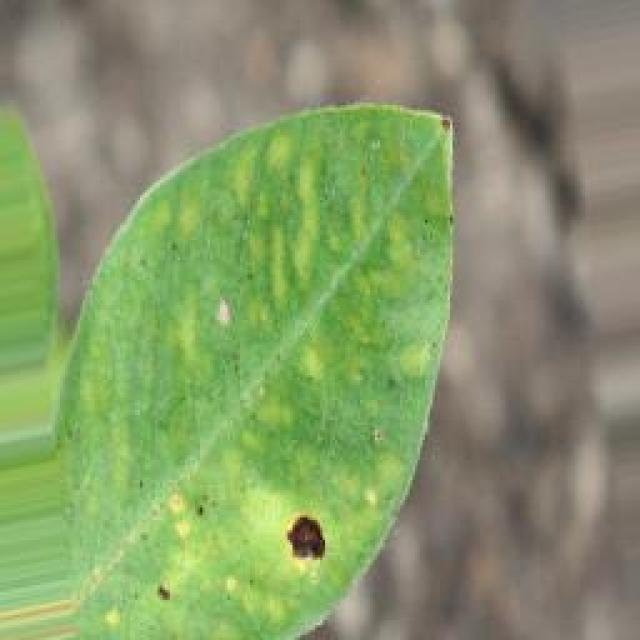Yellowish: (406, 85, 479, 238), (268, 493, 346, 587), (153, 478, 227, 542), (206, 288, 254, 362)
